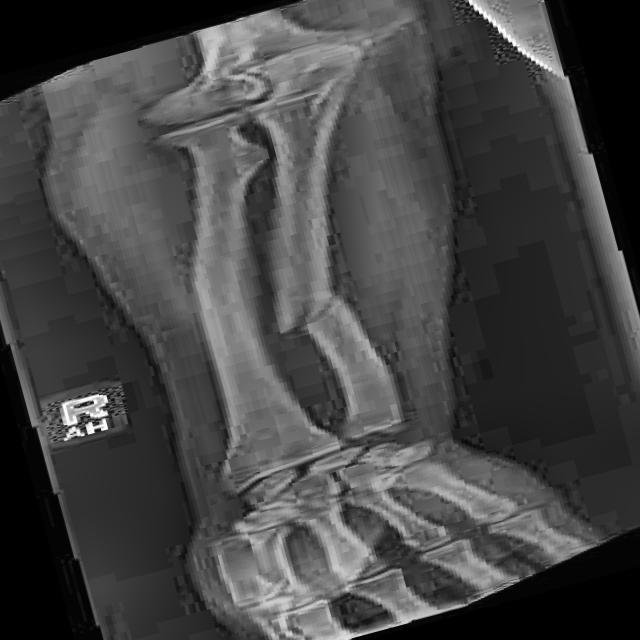forearm fracture: (235, 250, 415, 373)
